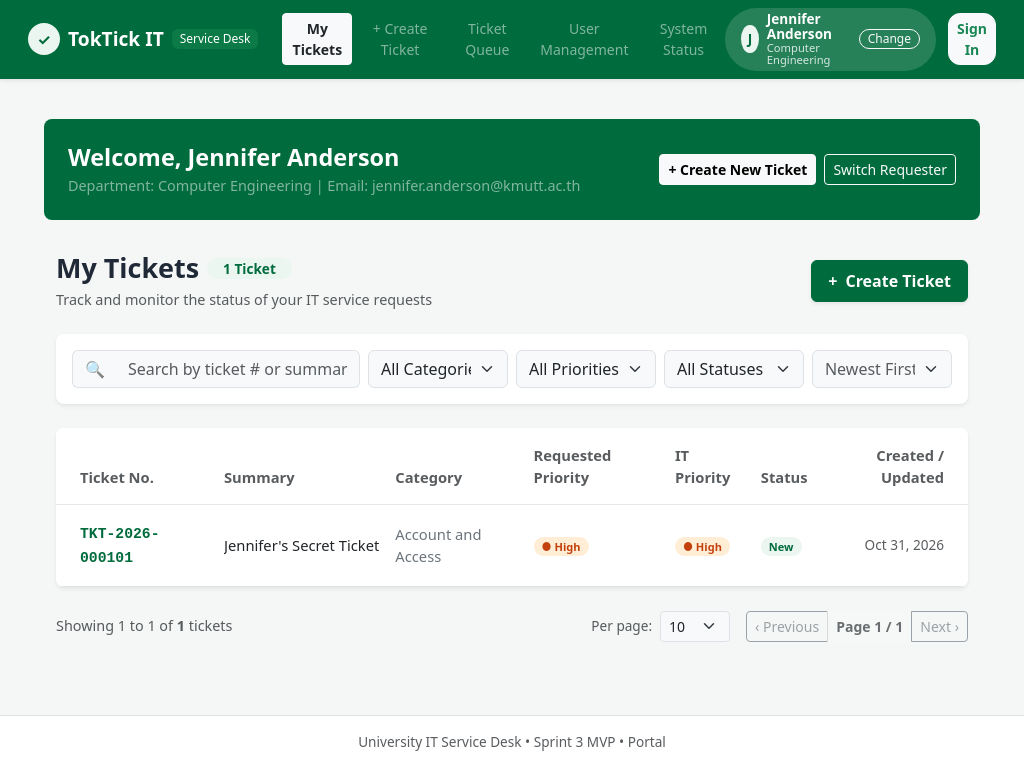
Scenario: End-to-End Client Lifecycle Integration (E2E-01, E2E-02, AC-01 to AC-12) › E2E-02: Multi-requester ownership isolation (AC-07, AC-11, BR-12)
expect the text "Jennifer's Secret Ticket" is shown: met, box [224,534,379,556]
expect the heading "Welcome, Jennifer Anderson" is shown: met, box [68,140,400,172]
# Switch requester via Change button in header
Click the button with test id "change-requester-btn" at (889, 39), box [859,29,920,49]
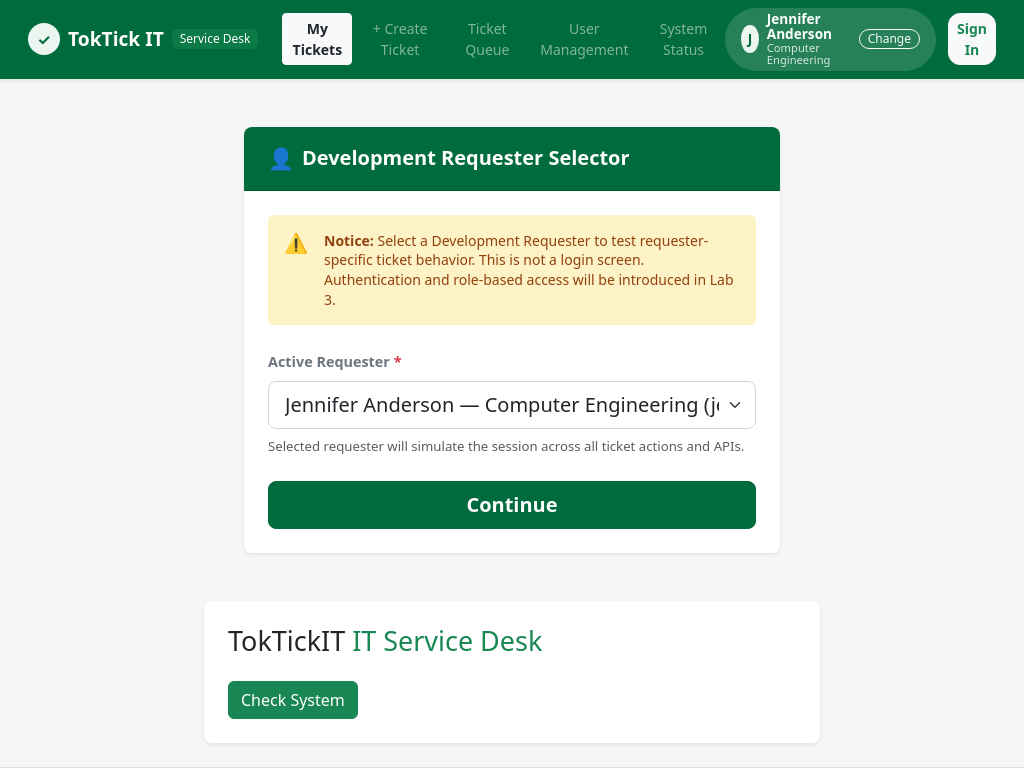
expect the dropdown with test id "requester-select" is shown: met
Select "Michael Brown — Information Technology (michael.brown@kmutt.ac.th)" in the dropdown with test id "requester-select" at (512, 405), box [268,381,756,429]
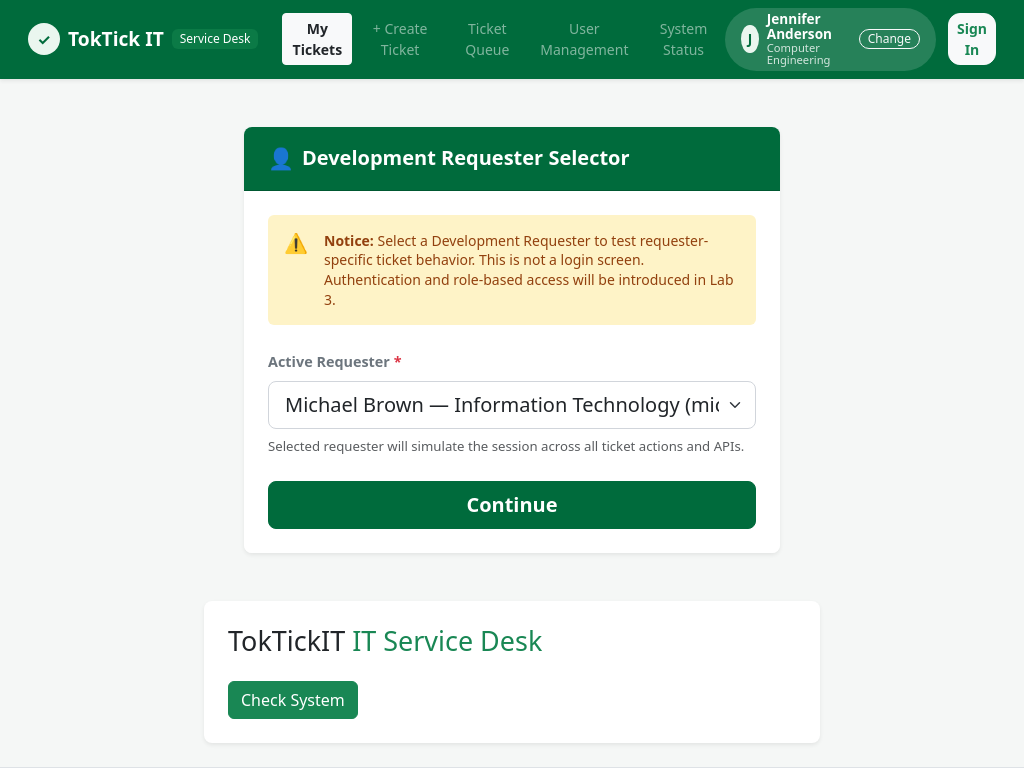
Click the button with test id "continue-btn" at (512, 504), box [268,480,756,528]
(page scrolled)
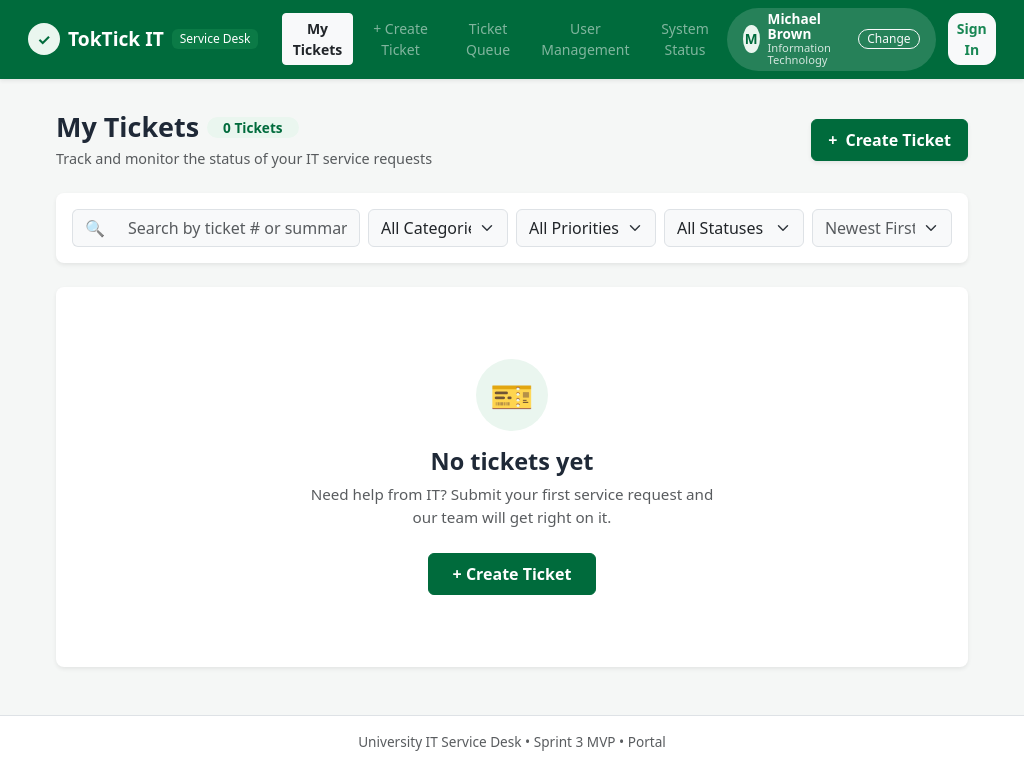
expect the text "Jennifer's Secret Ticket" is not shown: met
expect the heading "Welcome, Michael Brown" is shown: met, box [68,0,361,32]
expect the element with test id "empty-tickets-state" is shown: met, box [56,287,968,667]
